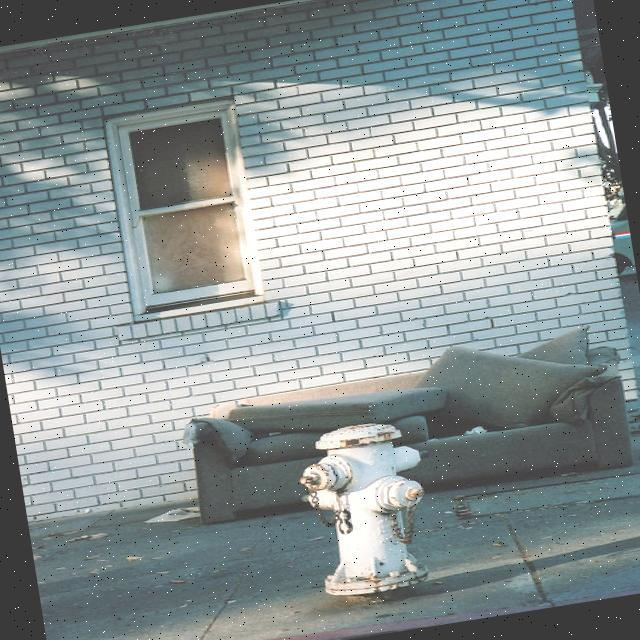fire_hydrant: (291, 416, 443, 614)
